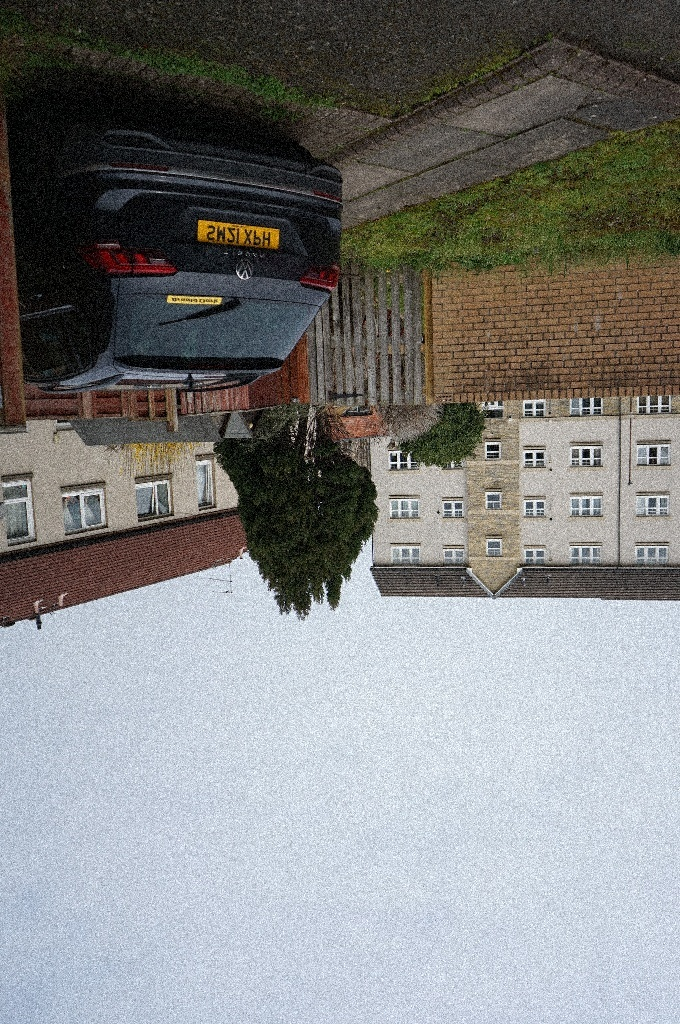Tree: (201, 409, 387, 637)
